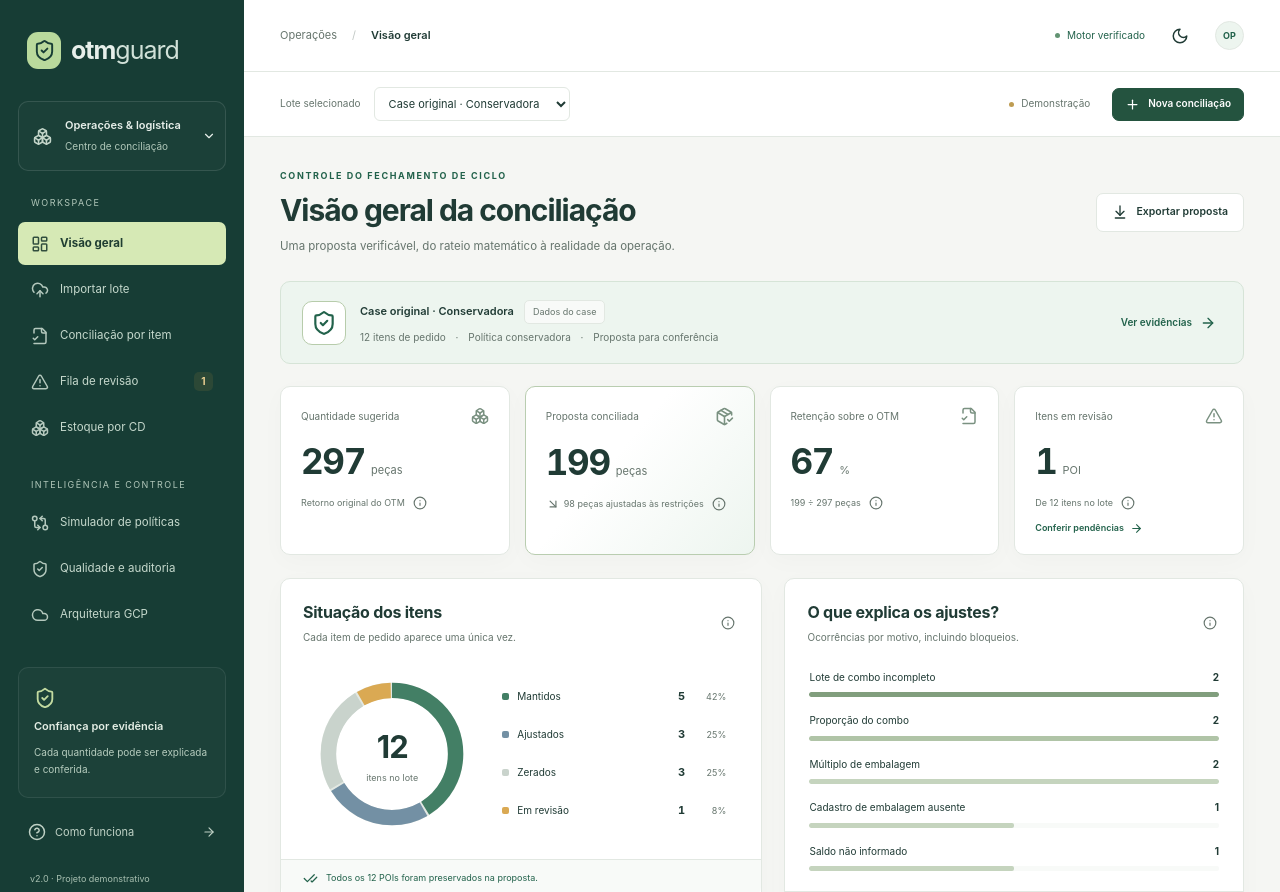
Jornada principal › permite navegar à importação sem conhecimento técnico
This screenshot has width=1280, height=892.
Check: the heading "Visão geral da conciliação" is shown, box [280, 192, 675, 228]
Click the button "Importar lote": [122, 290] box [18, 268, 226, 311]
(page scrolled)
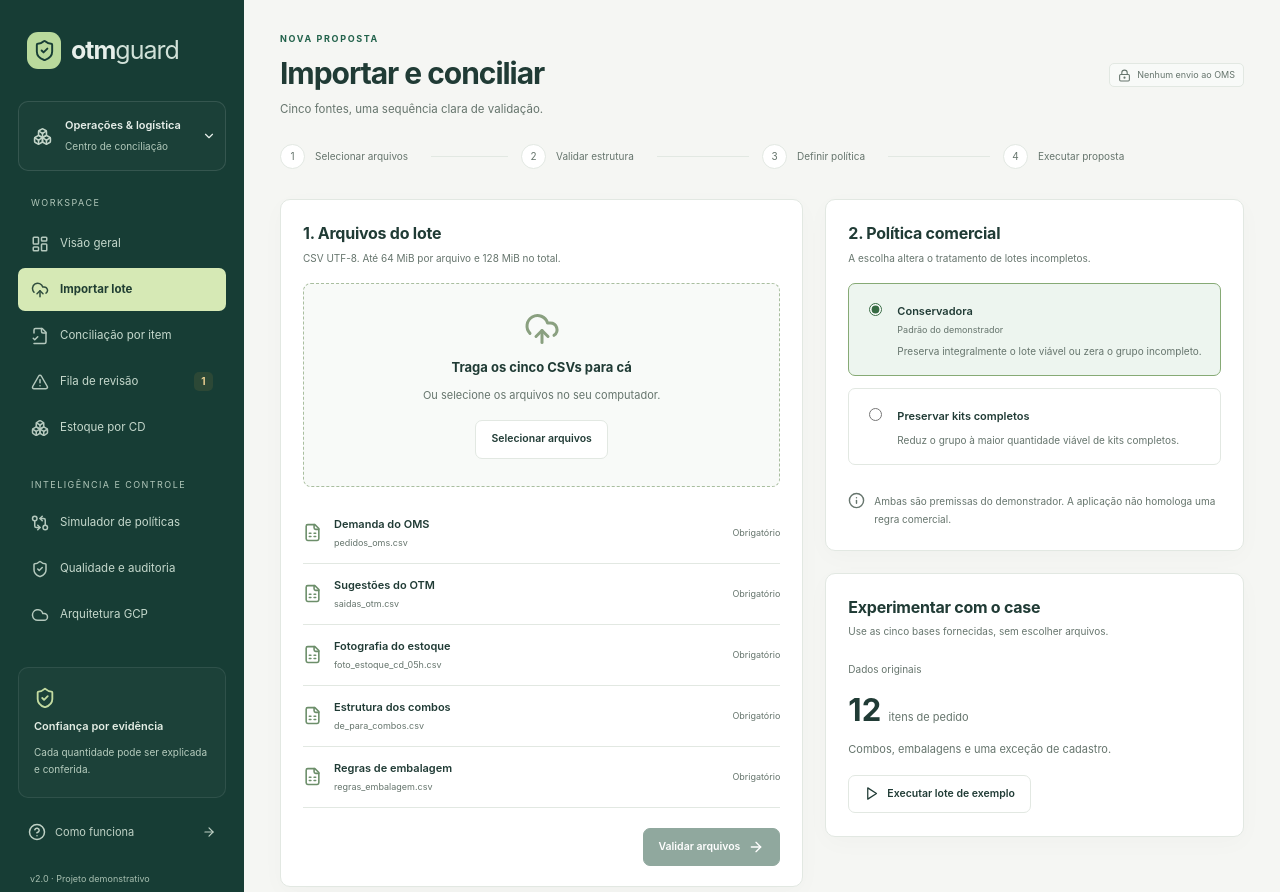
Check: the heading "Importar e conciliar" is shown, box [280, 55, 544, 91]
Check: the text "Fotografia do estoque" is shown, box [334, 639, 450, 653]
